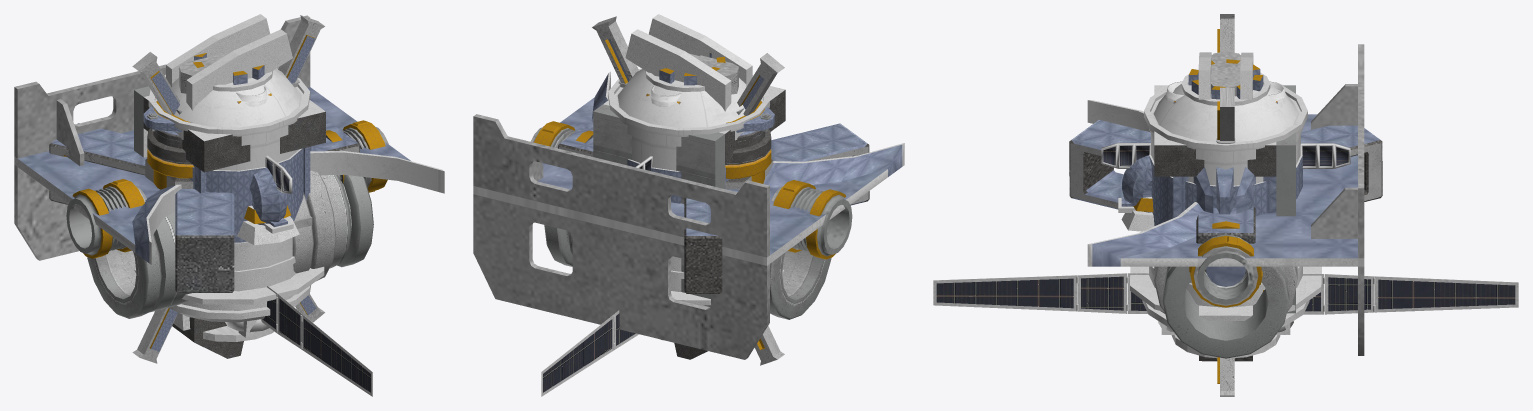
The model's file is spaceForce_debris_v02_ai.glb.
The picture shows the model from 3 angles, left to right: view 1: azimuth 30°, elevation 25°; view 2: azimuth 150°, elevation 25°; view 3: azimuth 270°, elevation 25°; orthographic projection.
Parts seen in each view (by area): view 1: Greeble.015, Greeble, Greeble.021, Greeble.012, Greeble.007, Greeble.020, Greeble.016, Greeble.006, Greeble.011, Greeble.001, Greeble.009, Greeble.004 (+1 smaller); view 2: Greeble.015, Greeble, Greeble.012, Greeble.021, Greeble.007, Greeble.020, Greeble.016, Greeble.011, Greeble.006, Greeble.004; view 3: Greeble.015, Greeble.006, Greeble, Greeble.012, Greeble.021, Greeble.020, Greeble.001, Greeble.016, Greeble.004, Greeble.007, Greeble.011, Greeble.009 (+1 smaller).
Boxes of the visible parts, left/top/right/bottom form: Greeble.015: left=14, top=15, right=444, bottom=264; Greeble: left=148, top=68, right=310, bottom=337; Greeble.021: left=87, top=79, right=373, bottom=318; Greeble.012: left=49, top=123, right=359, bottom=292; Greeble.007: left=166, top=14, right=292, bottom=358; Greeble.020: left=134, top=86, right=325, bottom=201; Greeble.016: left=66, top=120, right=388, bottom=258; Greeble.006: left=193, top=53, right=372, bottom=396; Greeble.011: left=132, top=15, right=324, bottom=363; Greeble.001: left=134, top=146, right=324, bottom=304; Greeble.009: left=249, top=168, right=287, bottom=225; Greeble.004: left=225, top=85, right=292, bottom=332; Greeble.015: left=473, top=71, right=904, bottom=359; Greeble: left=608, top=68, right=769, bottom=307; Greeble.012: left=558, top=123, right=869, bottom=293; Greeble.021: left=544, top=80, right=831, bottom=319; Greeble.007: left=625, top=14, right=752, bottom=359; Greeble.020: left=593, top=86, right=785, bottom=306; Greeble.016: left=530, top=121, right=852, bottom=259; Greeble.011: left=592, top=16, right=784, bottom=365; Greeble.006: left=541, top=53, right=725, bottom=396; Greeble.004: left=635, top=86, right=682, bottom=170; Greeble.015: left=1087, top=44, right=1364, bottom=355; Greeble.006: left=933, top=59, right=1518, bottom=358; Greeble: left=1142, top=69, right=1309, bottom=334; Greeble.012: left=1069, top=120, right=1382, bottom=273; Greeble.021: left=1154, top=138, right=1297, bottom=358; Greeble.020: left=1154, top=85, right=1295, bottom=313; Greeble.001: left=1130, top=167, right=1321, bottom=320; Greeble.016: left=1189, top=221, right=1262, bottom=307; Greeble.004: left=1101, top=81, right=1350, bottom=332; Greeble.007: left=1198, top=51, right=1253, bottom=361; Greeble.011: left=1217, top=14, right=1234, bottom=396; Greeble.009: left=1122, top=155, right=1152, bottom=212.
Size of the model in its own units: 0.1189 by 0.1187 by 0.2009.
4 materials, 4 textured.
